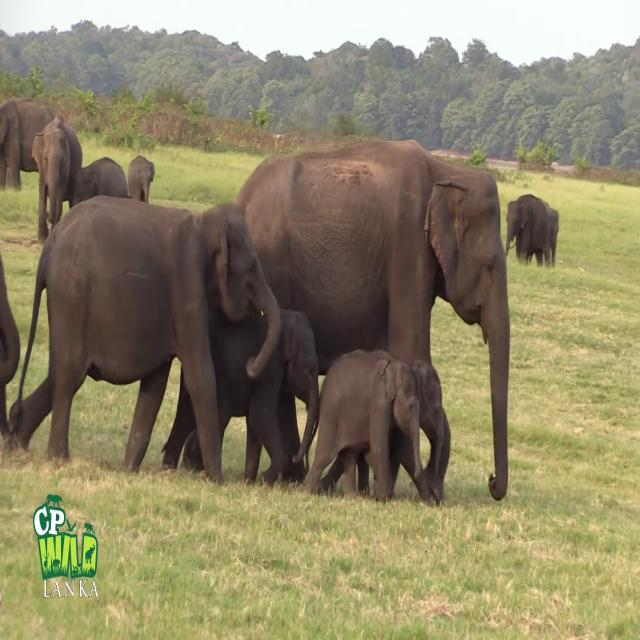Elephant: (235, 137, 510, 502), (8, 195, 281, 481), (161, 307, 320, 486), (302, 348, 434, 505), (31, 115, 82, 244), (0, 96, 56, 190), (505, 193, 559, 268), (0, 251, 21, 441), (70, 156, 128, 208), (127, 154, 155, 204)
